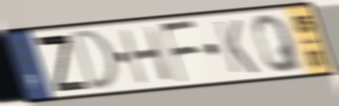D: (70, 27, 122, 94)
F: (159, 18, 203, 85)
H: (117, 24, 175, 86)
K: (211, 18, 261, 76)
Q: (251, 13, 306, 75)
Z: (32, 33, 92, 95)
